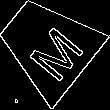M_NW: (14, 12, 81, 79)
